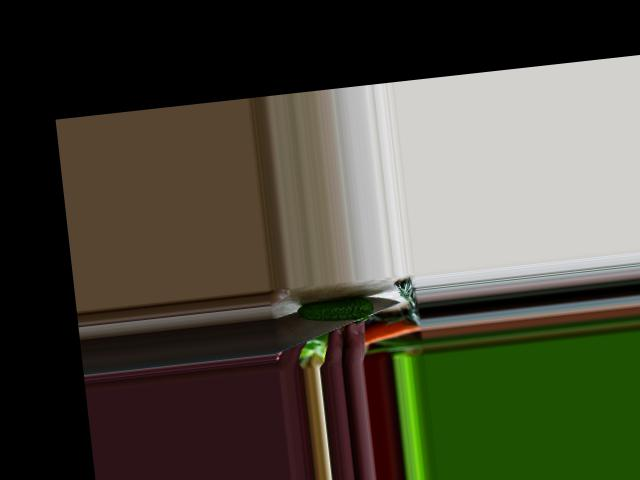cucumber: (297, 294, 375, 325)
